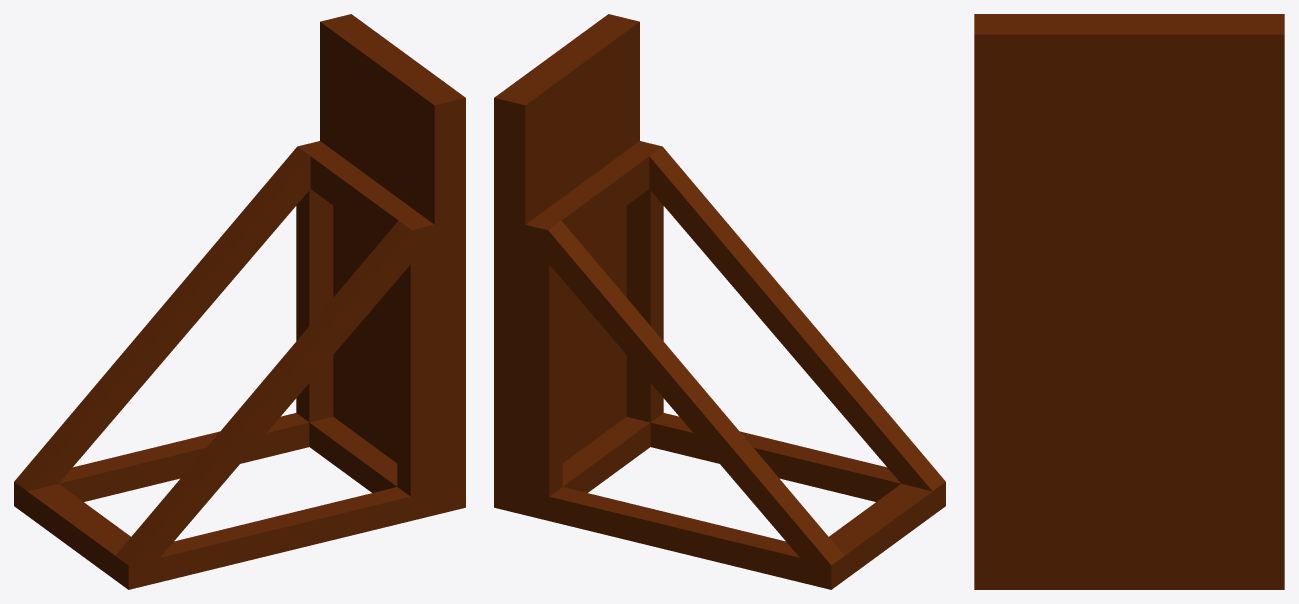
Rendered from TargetStand.fbx.
The picture shows the model from 3 angles, left to right: view 1: azimuth 30°, elevation 25°; view 2: azimuth 150°, elevation 25°; view 3: azimuth 270°, elevation 25°; orthographic projection. The views are drawn at different scales.
Visible parts, largest first — view 1: Stand; view 2: Stand; view 3: Stand.
Boxes of the visible parts, x1,y1,x2,y2 form: Stand: [14, 14, 465, 589]; Stand: [494, 14, 945, 589]; Stand: [974, 14, 1284, 589].
Size of the model in its own units: 21.53 by 25 by 12.66.
